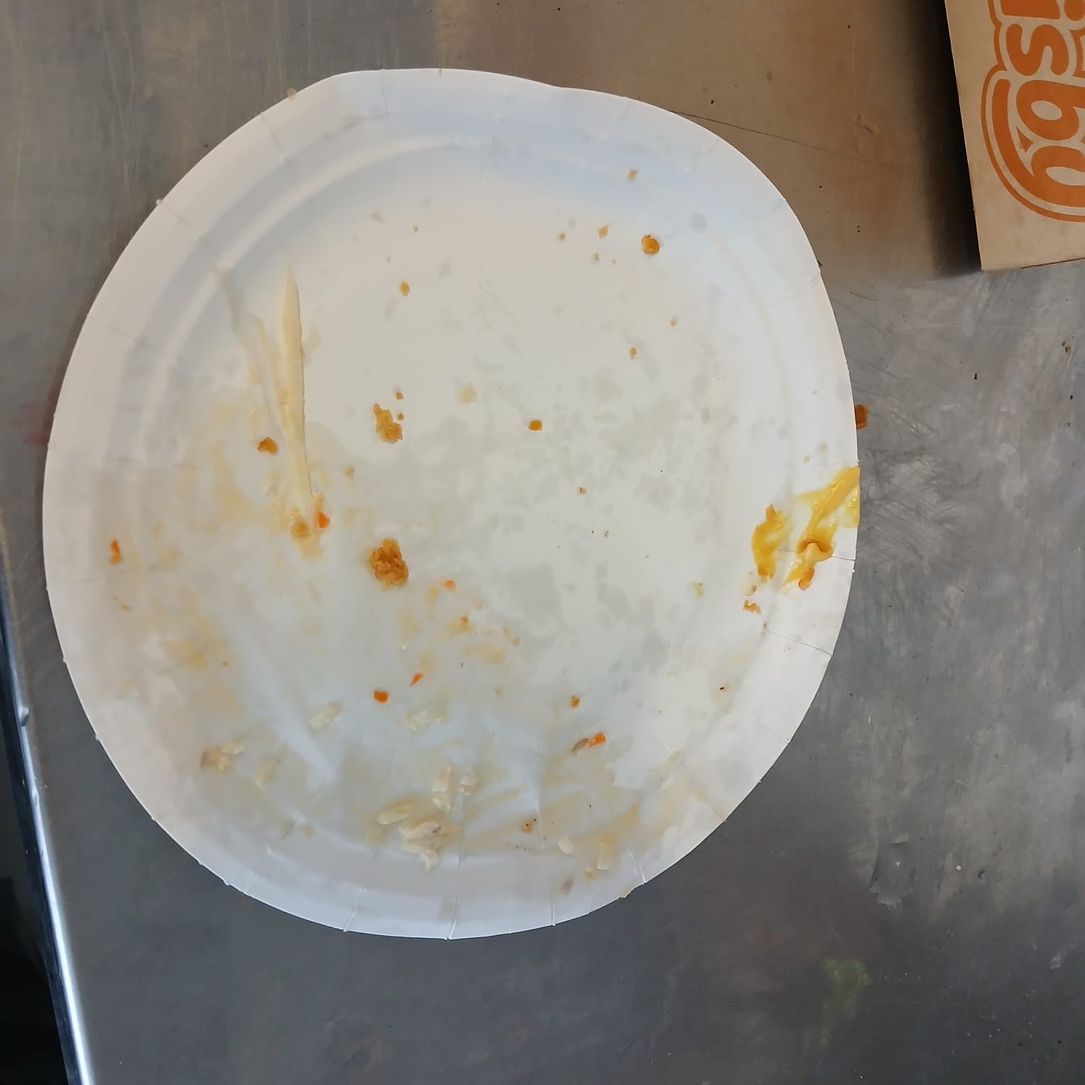Ordinario: (41, 67, 863, 941)
